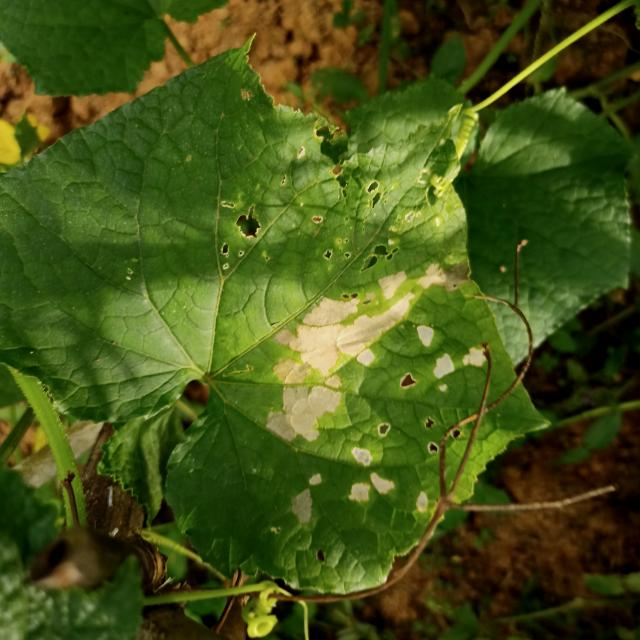disease_cucumber: (260, 258, 488, 532)
